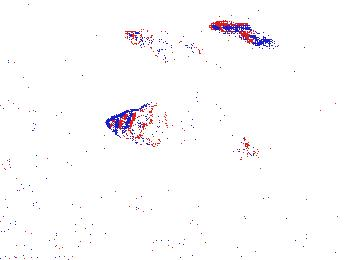X-ray fish: (105, 101, 182, 142)
red belly glassfish: (211, 18, 250, 37), (238, 29, 269, 48)
redtail glassfish: (123, 27, 204, 66)
